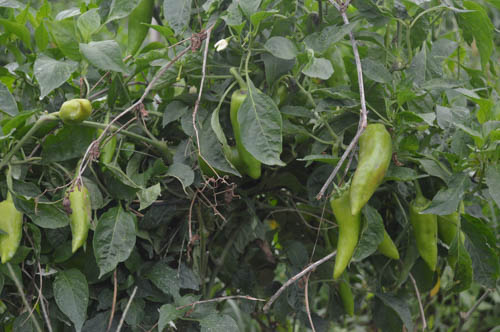ChiliPepper: (350, 122, 391, 215), (327, 192, 360, 284), (230, 92, 259, 179), (66, 187, 90, 258), (413, 204, 436, 269), (367, 220, 402, 258), (1, 202, 22, 262), (437, 202, 463, 248), (58, 98, 92, 126), (99, 126, 117, 171)
